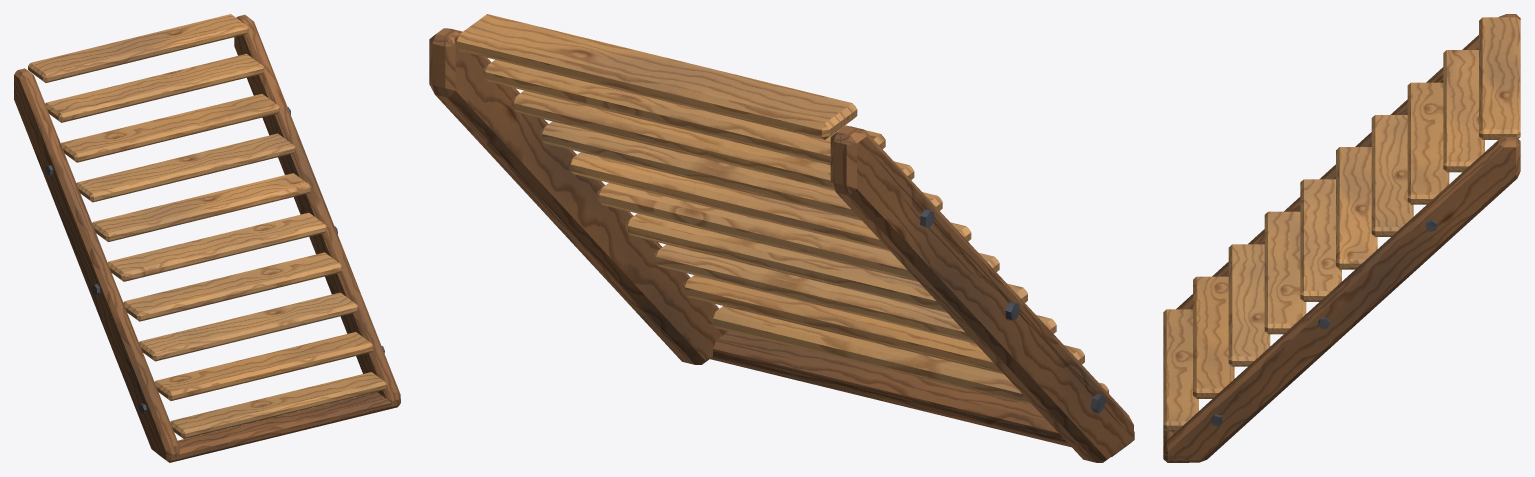
The model's file is merdiven.glb.
3 renders of one model, left to right at view 1: azimuth 30°, elevation 25°; view 2: azimuth 150°, elevation 25°; view 3: azimuth 270°, elevation 25°, orthographic. The views are drawn at different scales.
Parts seen in each view (by area): view 1: merdiven; view 2: merdiven; view 3: merdiven.
Part boxes in pixels (x1,y1,x2,y2): merdiven: (14, 14, 400, 462); merdiven: (429, 14, 1134, 462); merdiven: (1163, 14, 1520, 462).
Bounding box in the file's own units: 2.67 × 3.02 × 3.
Materials: 1 (1 with a texture image).
